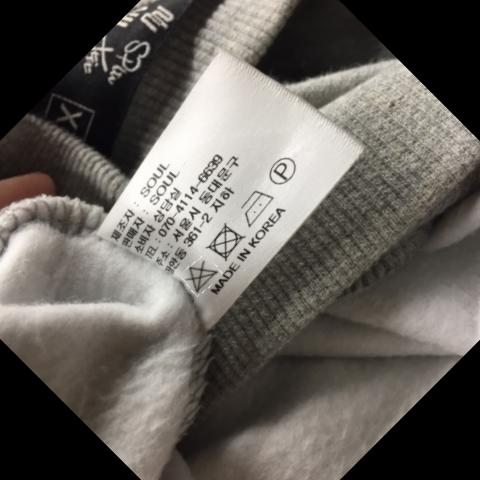DN_bleach: (184, 257, 218, 291)
DN_tumble_dry: (212, 224, 245, 260)
dry_clean_any_solvent_except_trichloroethylene: (269, 153, 299, 188)
iron_medium: (243, 188, 275, 226)
